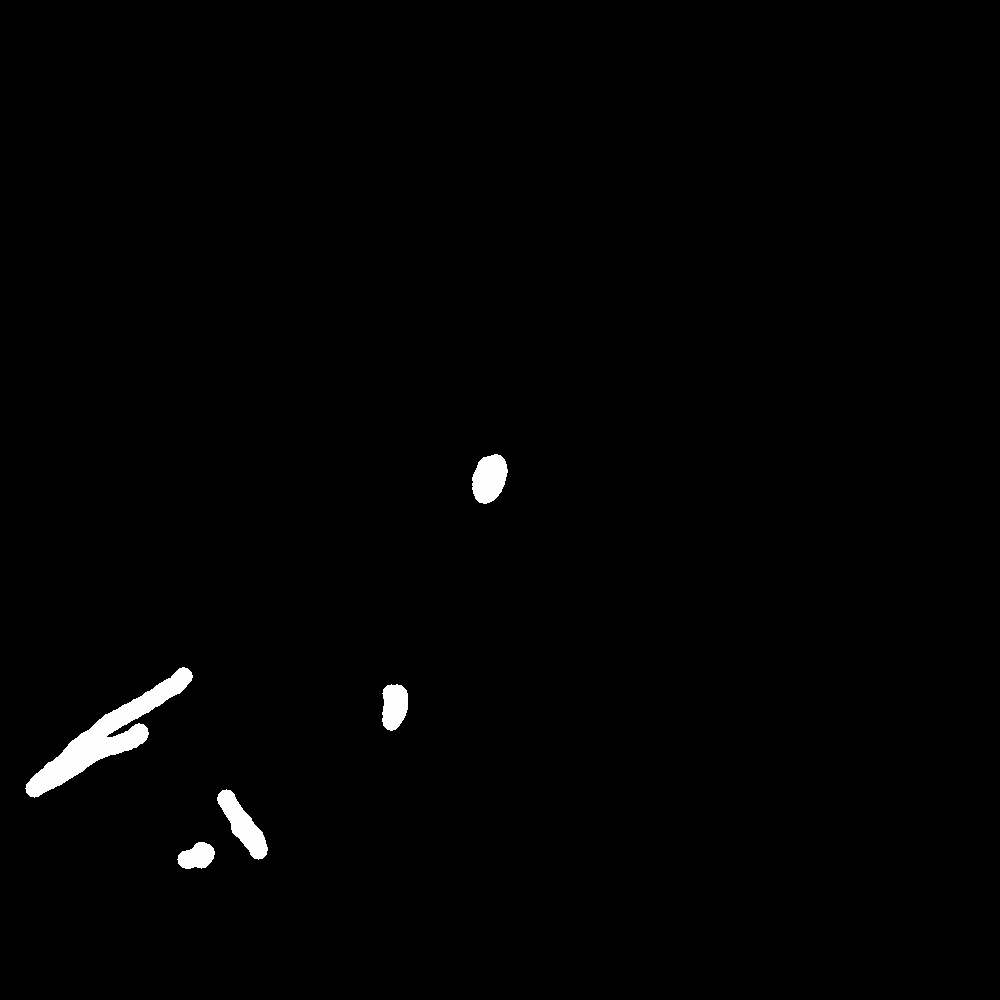illegal: (15, 665, 196, 810), (182, 800, 273, 859), (453, 451, 518, 507), (369, 655, 416, 731)
